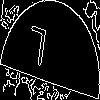L: (25, 25, 48, 76)
